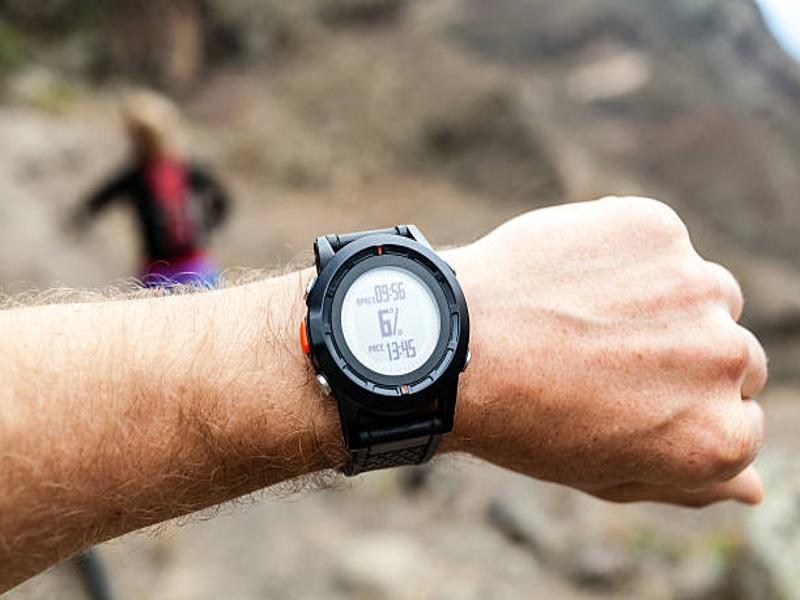watch: (297, 223, 466, 474)
